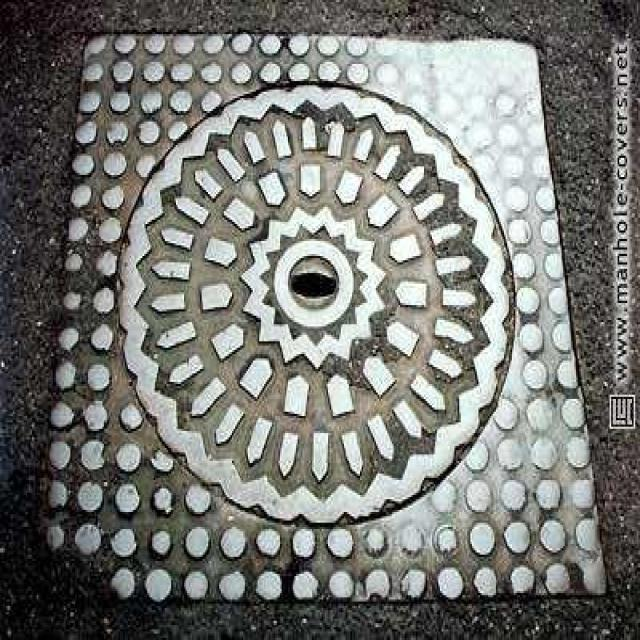manhole: (40, 32, 606, 606)
